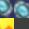altar: (14, 18, 29, 29)
mirror: (14, 0, 29, 18), (0, 0, 14, 18)
